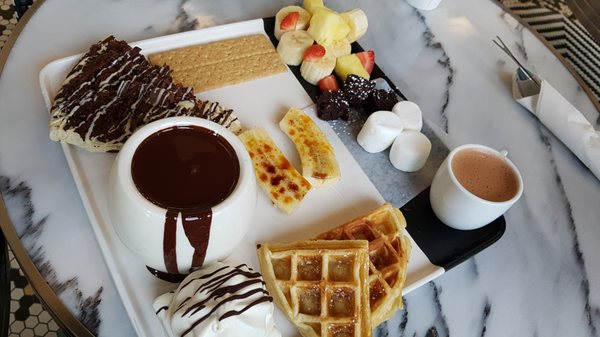pizza: (109, 115, 256, 277), (429, 143, 524, 230), (388, 130, 432, 173)
